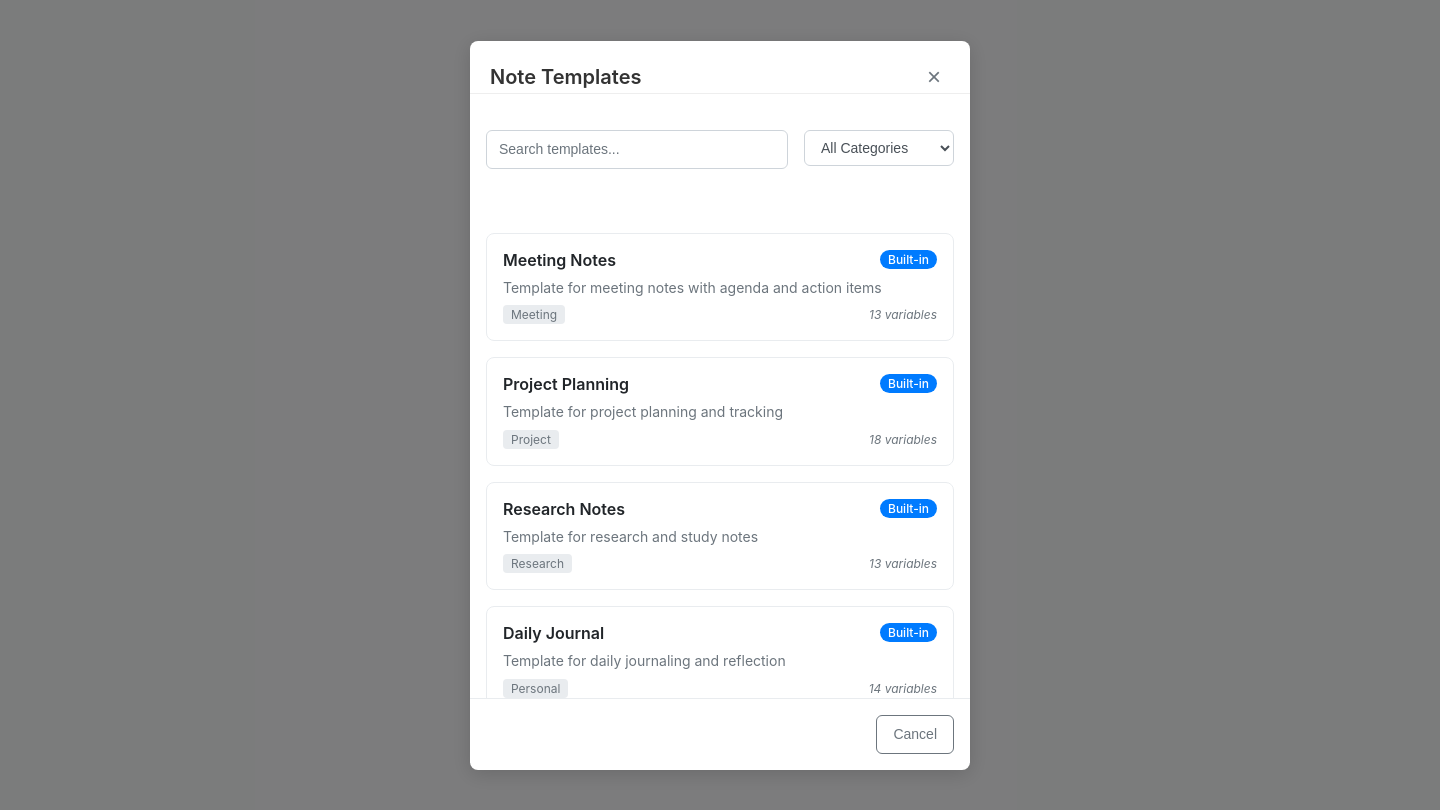
Test: NoteTemplates › shows template preview when template is selected
Click the heading "Meeting Notes" at [560, 260], box left=503, top=250, right=616, bottom=270
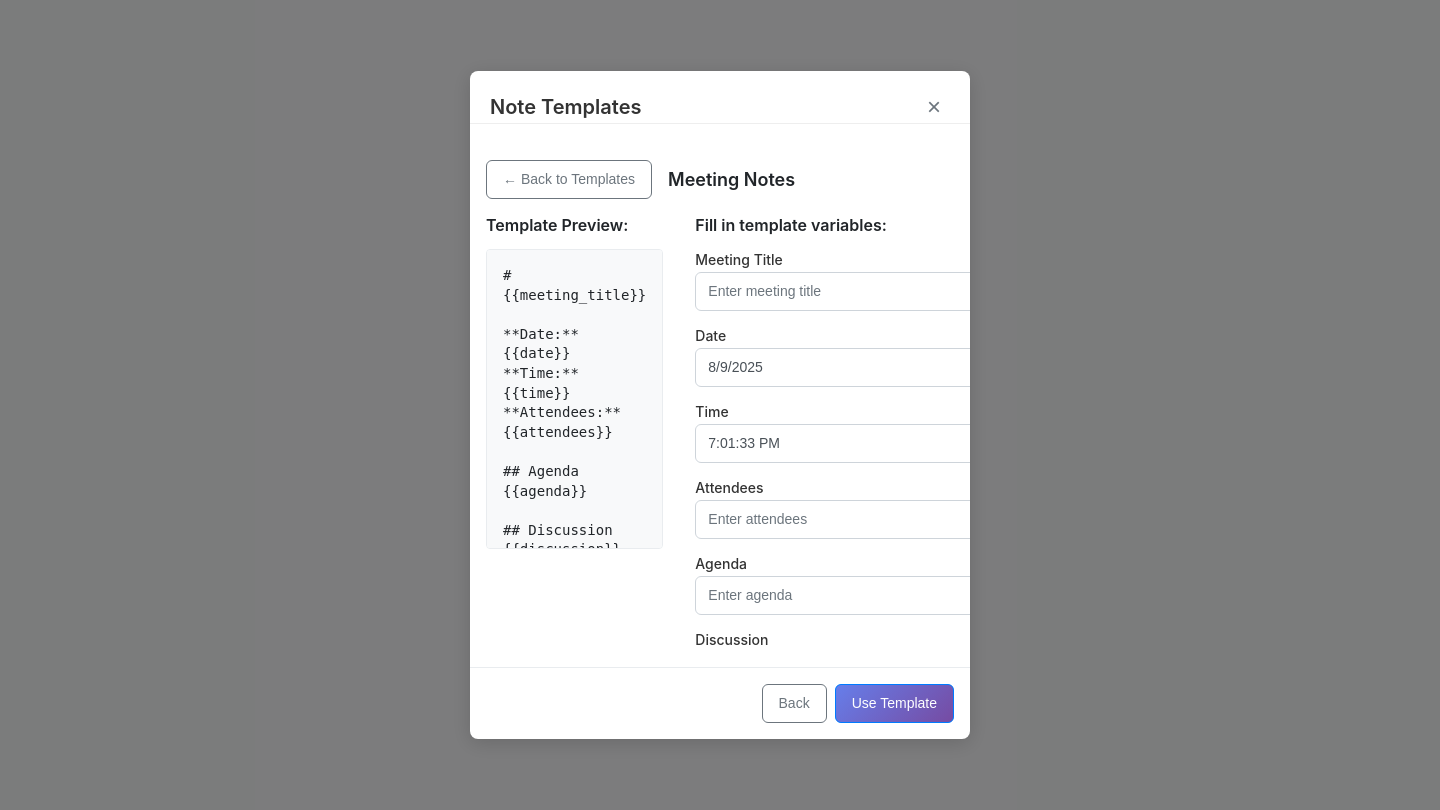
Check: the heading "Template Preview:" is shown, box left=486, top=215, right=628, bottom=235
Check: the heading "Fill in template variables:" is shown, box left=695, top=215, right=887, bottom=235
Check: the button "← Back to Templates" is shown, box left=486, top=160, right=652, bottom=199
